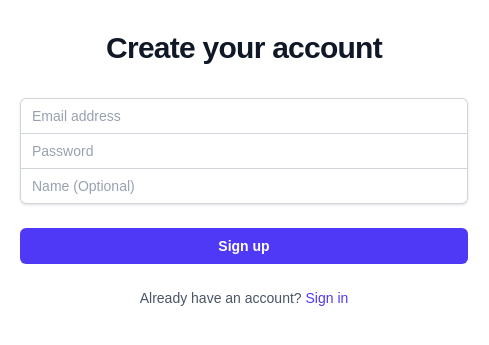
Test case: Register page › failed registration › should display the error message when user already exists
This screenshot has width=489, height=345.
Type "alice@example.com" into the field with placeholder "Email address" at (244, 116), box [20,98,468,134]
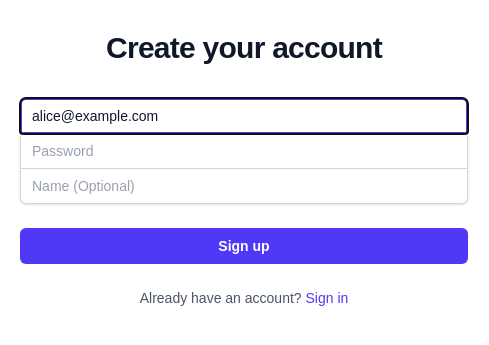
Type "password123" into the password field with placeholder "Password" at (244, 151), box [20,133,468,169]
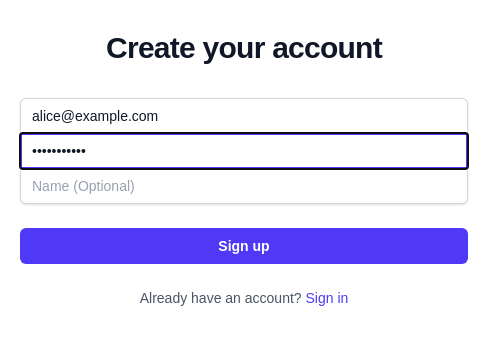
Click the button "Sign up" at (244, 246), box [20,228,468,264]
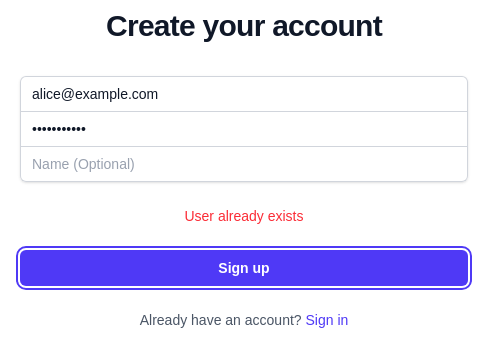
Result: the text "User already exists" is shown at [184,208,304,224]
